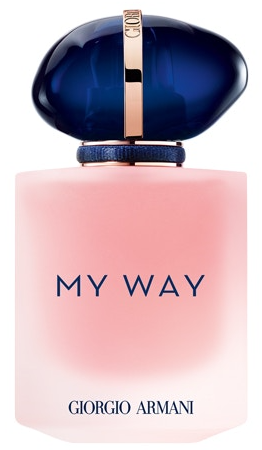armani_my_way_floral: (10, 7, 253, 446)
